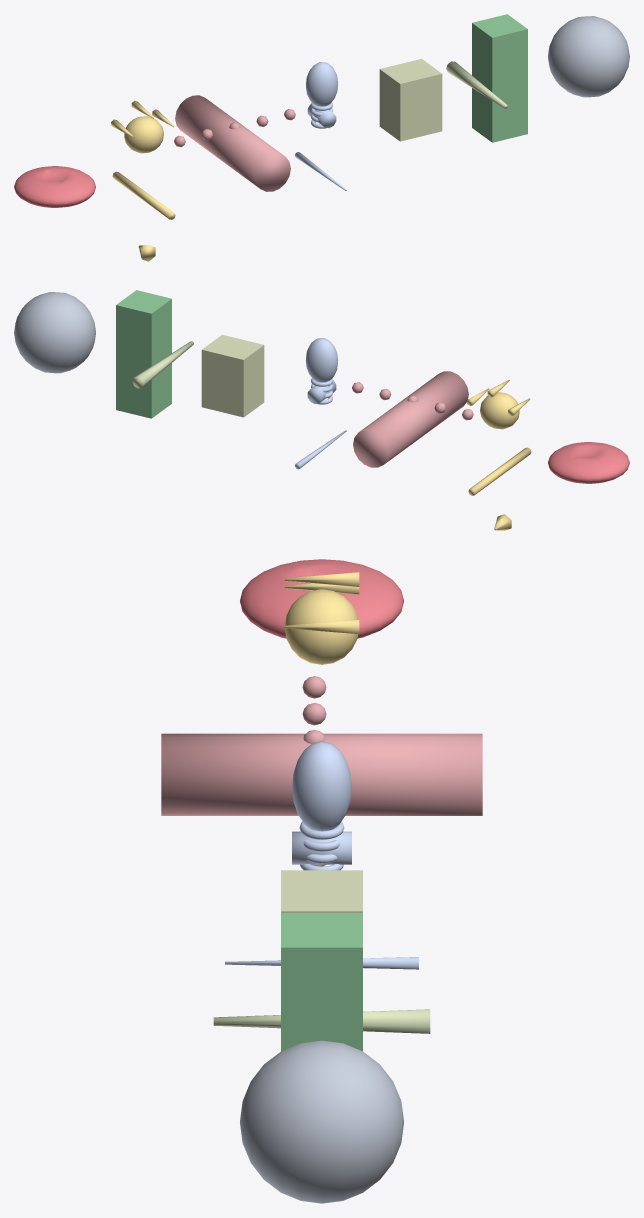
Rendered from specialised_cells.glb.
3 renders of one model, top to bottom at view 1: azimuth 30°, elevation 25°; view 2: azimuth 150°, elevation 25°; view 3: azimuth 270°, elevation 25°, orthographic. The views are drawn at different scales.
Visible parts, largest first — view 1: palisade_cell, muscle_fibre, generic_cell, root_hair_cell, red_blood_cell, neuron, sperm_cell; view 2: palisade_cell, muscle_fibre, generic_cell, root_hair_cell, red_blood_cell, neuron, sperm_cell; view 3: muscle_fibre, generic_cell, palisade_cell, sperm_cell, red_blood_cell, root_hair_cell, neuron.
Part boxes in pixels (left/top/right/bottom): palisade_cell: left=472, top=14, right=527, bottom=142; muscle_fibre: left=174, top=95, right=295, bottom=191; generic_cell: left=548, top=16, right=629, bottom=97; root_hair_cell: left=379, top=59, right=507, bottom=141; red_blood_cell: left=14, top=166, right=95, bottom=207; neuron: left=111, top=100, right=175, bottom=261; sperm_cell: left=295, top=62, right=346, bottom=190; palisade_cell: left=116, top=290, right=171, bottom=418; muscle_fibre: left=352, top=371, right=473, bottom=467; generic_cell: left=14, top=292, right=95, bottom=373; root_hair_cell: left=132, top=334, right=264, bottom=417; red_blood_cell: left=548, top=442, right=629, bottom=483; neuron: left=467, top=379, right=531, bottom=530; sperm_cell: left=295, top=338, right=346, bottom=469; muscle_fibre: left=161, top=676, right=482, bottom=815; generic_cell: left=240, top=1040, right=403, bottom=1203; palisade_cell: left=281, top=913, right=362, bottom=1051; sperm_cell: left=225, top=741, right=418, bottom=969; red_blood_cell: left=240, top=559, right=403, bottom=638; root_hair_cell: left=213, top=870, right=430, bottom=1033; neuron: left=284, top=572, right=359, bottom=866.
Bounding box in the file's own units: 3.74 × 0.9 × 0.86.
